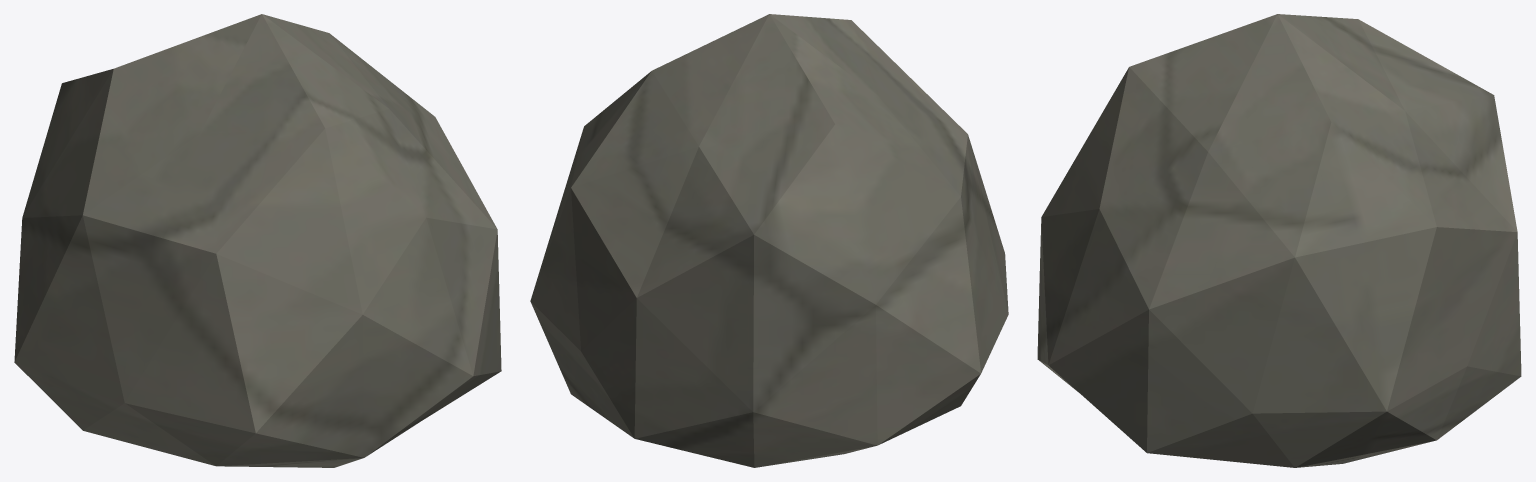
File: low-poly-rock-1.glb
3 renders of one model, left to right at view 1: azimuth 30°, elevation 25°; view 2: azimuth 150°, elevation 25°; view 3: azimuth 270°, elevation 25°, orthographic. The views are drawn at different scales.
Bounding box in the file's own units: 1.15 × 1.01 × 1.12.
Materials: 1 (1 with a texture image).
